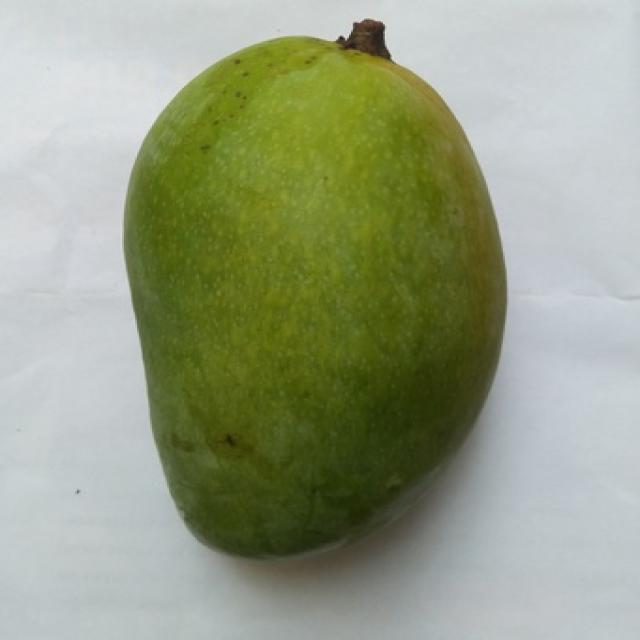Mango: (124, 23, 505, 555)
